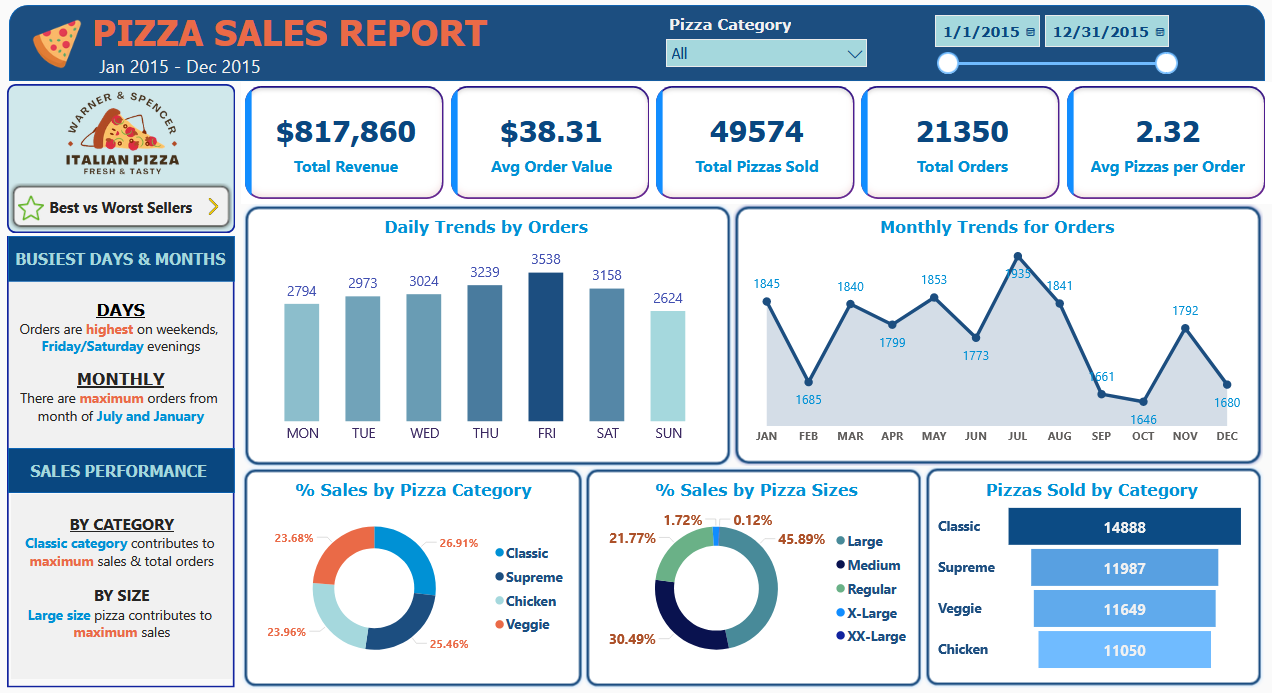

Layout of this report page (visuals, bound fields, positions):
{"tool":"powerbi","page":{"name":"Home","canvas":[1500,820],"ordinal":0},"visuals":[{"type":"shape","box":[10.2,281.5,267.2,54],"z":0,"group":"g1"},{"type":"shape","box":[9.7,281.9,268.1,531.9],"z":0},{"type":"textbox","box":[13.5,291.6,272.2,42.2],"z":1000,"group":"g1"},{"type":"shape","box":[9.1,103,269.1,175.8],"z":1000},{"type":"shape","box":[10.2,531.7,267.2,53.2],"z":2000},{"type":"cardVisual","fields":{"Data":["pizza_sales.Total Revenue","pizza_sales.Avg Order Value","pizza_sales.Total Pizzas Sold","pizza_sales.Total Orders","pizza_sales.Avg Pizzas per Order"]},"box":[285.5,100,1214.5,143.5],"z":3000},{"type":"textbox","box":[31.7,541.7,235,41.7],"z":4000},{"type":"shape","box":[11.7,10,1480,90],"z":5000},{"type":"textbox","box":[93.3,61.7,240,46.7],"z":6000},{"type":"image","box":[20.8,21.1,94.3,68.7],"z":7000},{"type":"shape","box":[287,243.5,576.8,310.1],"z":8000},{"type":"shape","box":[865.2,243.5,624.6,308.7],"z":9000},{"type":"columnChart","title":"Daily Trends by Orders","fields":{"Y":["pizza_sales.Total Orders"],"Category":["pizza_sales.Order Day"]},"box":[302.9,259.4,542,275.4],"z":10000},{"type":"areaChart","title":"Monthly Trends for Orders","fields":{"Category":["pizza_sales.Order Month"],"Y":["pizza_sales.Total Orders"]},"box":[880.2,259.5,591.9,275.7],"z":11000},{"type":"shape","box":[286.6,553.7,403,261.2],"z":12000},{"type":"shape","box":[689.6,553.7,400,261.2],"z":13000},{"type":"shape","box":[1089.6,552.2,400,261.2],"z":14000},{"type":"donutChart","title":"% Sales by Pizza Category","fields":{"Y":["Sum(pizza_sales.total_price)"],"Category":["pizza_sales.pizza_category"]},"box":[297,568.7,382.1,231.3],"z":15000},{"type":"donutChart","title":"% Sales by Pizza Sizes","fields":{"Y":["Sum(pizza_sales.total_price)"],"Category":["pizza_sales.pizza_size"]},"box":[701.5,568.7,382.1,231.3],"z":16000},{"type":"funnel","title":"Pizzas Sold by Category","fields":{"Category":["pizza_sales.pizza_category"],"Y":["pizza_sales.Total Pizzas Sold"]},"box":[1101.5,568.7,371.6,231.3],"z":17000},{"type":"textbox","box":[12,334.8,263,196.7],"z":18000},{"type":"textbox","box":[14.3,585.7,260.7,217.9],"z":19000},{"type":"slicer","fields":{"Values":["pizza_sales.pizza_category"]},"box":[776.7,16.7,256.7,73.3],"z":20000},{"type":"slicer","fields":{"Values":["pizza_sales.order_date"]},"box":[1090,11.7,306.7,86.7],"z":21000},{"type":"pageNavigator","box":[12.5,219.4,262.5,55.6],"z":22000},{"type":"image","box":[238.3,230,30,35],"z":23000},{"type":"image","box":[15,228.3,45,40],"z":24000},{"type":"textbox","box":[93.3,10,498.3,61.7],"z":25000},{"type":"image","box":[13.9,102.8,262.5,115.3],"z":26000},{"type":"group","id":"g1","title":"Group 1","box":[10.2,281.5,275.5,54],"z":27000}]}

Visuals, with their boxes in screenshot pixels (x1, y1, x2, y2), scaled from the page's 1500x820 canvas onto the 1272x693 screenshot:
shape: bbox=[9, 238, 235, 284]
shape: bbox=[8, 238, 236, 688]
textbox: bbox=[11, 246, 242, 282]
shape: bbox=[8, 87, 236, 236]
shape: bbox=[9, 449, 235, 494]
cardVisual - pizza_sales.Total Revenue x pizza_sales.Avg Order Value: bbox=[242, 85, 1271, 206]
textbox: bbox=[27, 458, 226, 493]
shape: bbox=[10, 8, 1265, 85]
textbox: bbox=[79, 52, 283, 92]
image: bbox=[18, 18, 98, 76]
shape: bbox=[243, 206, 733, 468]
shape: bbox=[734, 206, 1263, 467]
"Daily Trends by Orders" columnChart: bbox=[257, 219, 716, 452]
"Monthly Trends for Orders" areaChart: bbox=[746, 219, 1248, 452]
shape: bbox=[243, 468, 585, 689]
shape: bbox=[585, 468, 924, 689]
shape: bbox=[924, 467, 1263, 687]
"% Sales by Pizza Category" donutChart: bbox=[252, 481, 576, 676]
"% Sales by Pizza Sizes" donutChart: bbox=[595, 481, 919, 676]
"Pizzas Sold by Category" funnel: bbox=[934, 481, 1249, 676]
textbox: bbox=[10, 283, 233, 449]
textbox: bbox=[12, 495, 233, 679]
slicer - pizza_sales.pizza_category: bbox=[659, 14, 876, 76]
slicer - pizza_sales.order_date: bbox=[924, 10, 1184, 83]
pageNavigator: bbox=[11, 185, 233, 232]
image: bbox=[202, 194, 228, 224]
image: bbox=[13, 193, 51, 227]
textbox: bbox=[79, 8, 502, 61]
image: bbox=[12, 87, 234, 184]
"Group 1" group: bbox=[9, 238, 242, 284]
